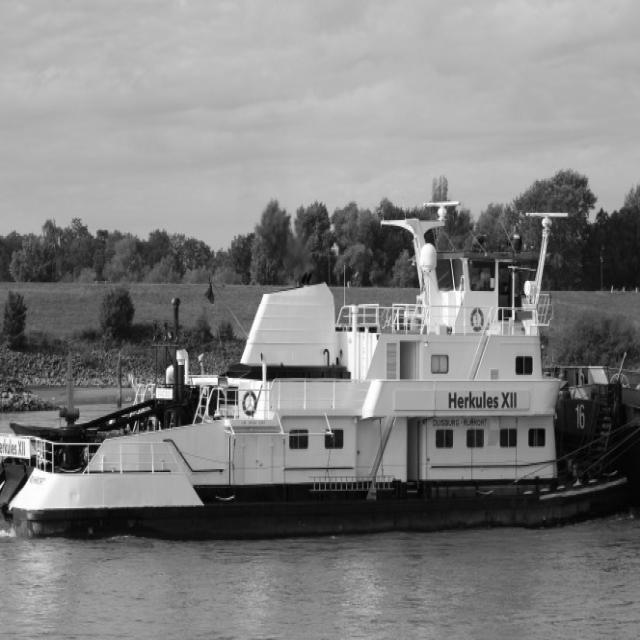tugboat: (1, 199, 628, 554)
